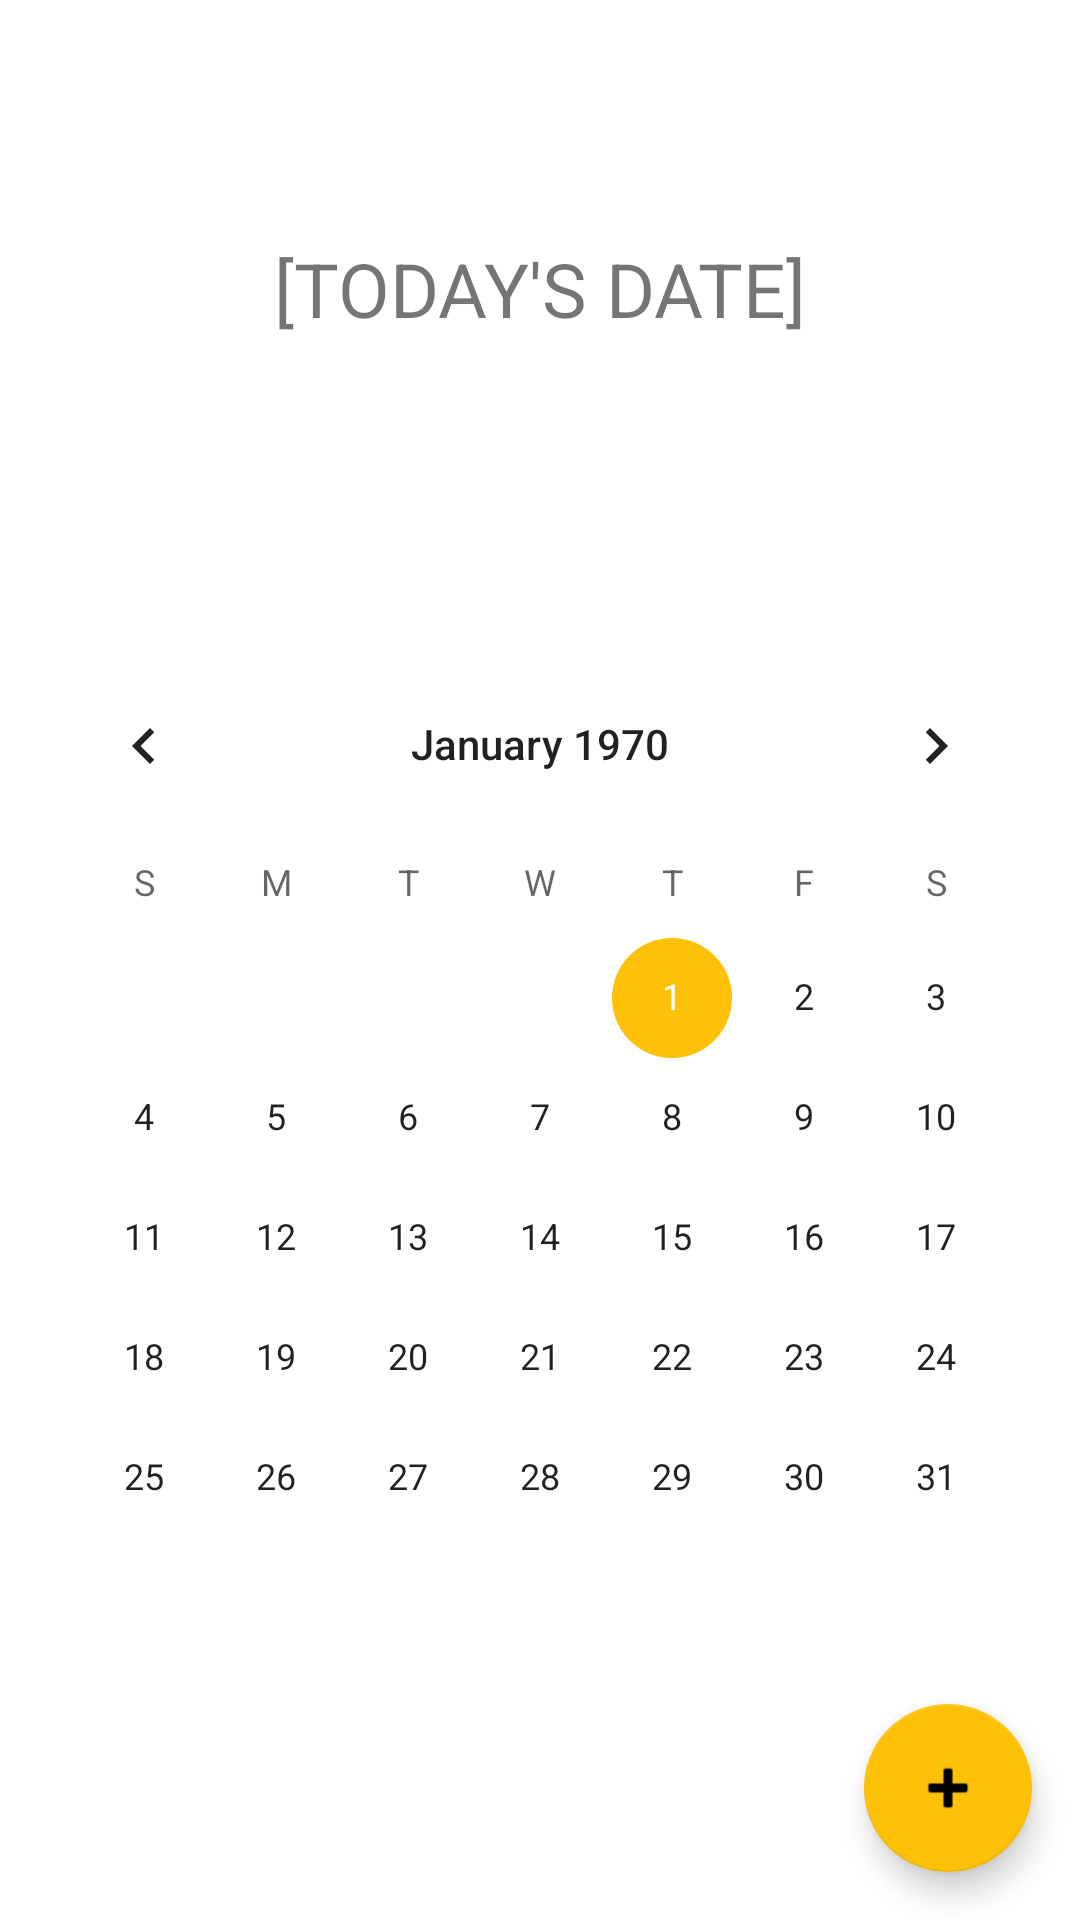

Point at icon controls on the screen. Image size 1080px x 1920px, points as point (x, y).
A button to add content to today's date: point (948, 1788)
